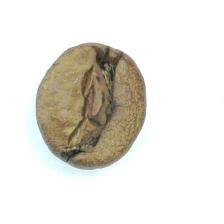NG: (54, 43, 135, 167)
